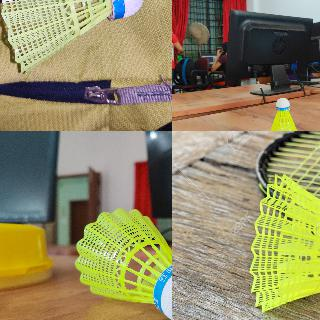shuttlecock: (74, 208, 171, 319), (0, 0, 145, 73), (249, 173, 319, 312), (266, 97, 301, 130)
